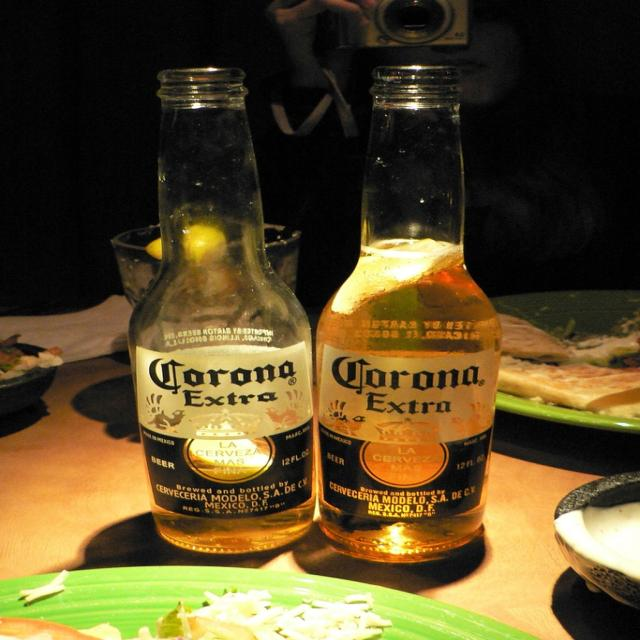corona: (137, 342, 315, 521), (319, 346, 498, 520)
